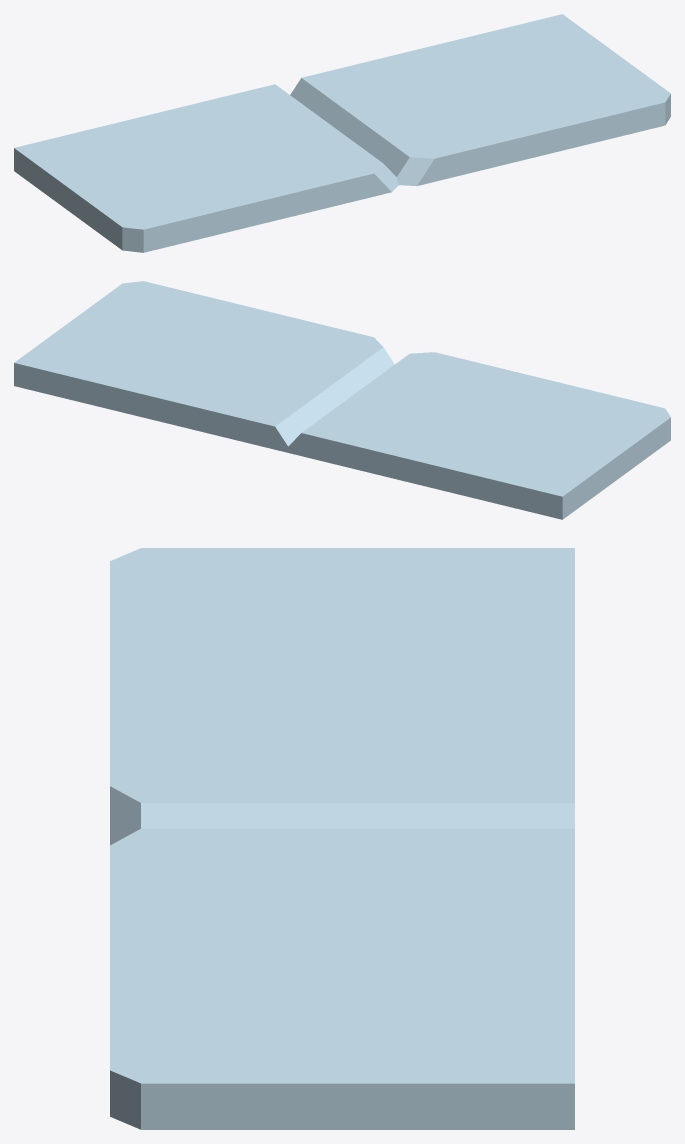
The model's file is STAM - M6.gltf.
3 views of the same model, one above another, from view 1: azimuth 30°, elevation 25°; view 2: azimuth 150°, elevation 25°; view 3: azimuth 270°, elevation 25° (orthographic). The views are drawn at different scales.
Parts seen in each view (by area): view 1: M6; view 2: M6; view 3: M6.
Boxes of the visible parts, box(x1,y1,x2,y2) form: M6: box(14, 14, 670, 252); M6: box(14, 281, 670, 519); M6: box(110, 548, 574, 1129).
Size of the model in its own units: 0.0409 by 0.00165 by 0.015.
